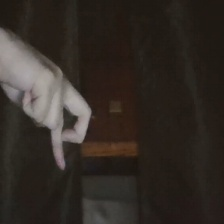P: (1, 19, 99, 174)
